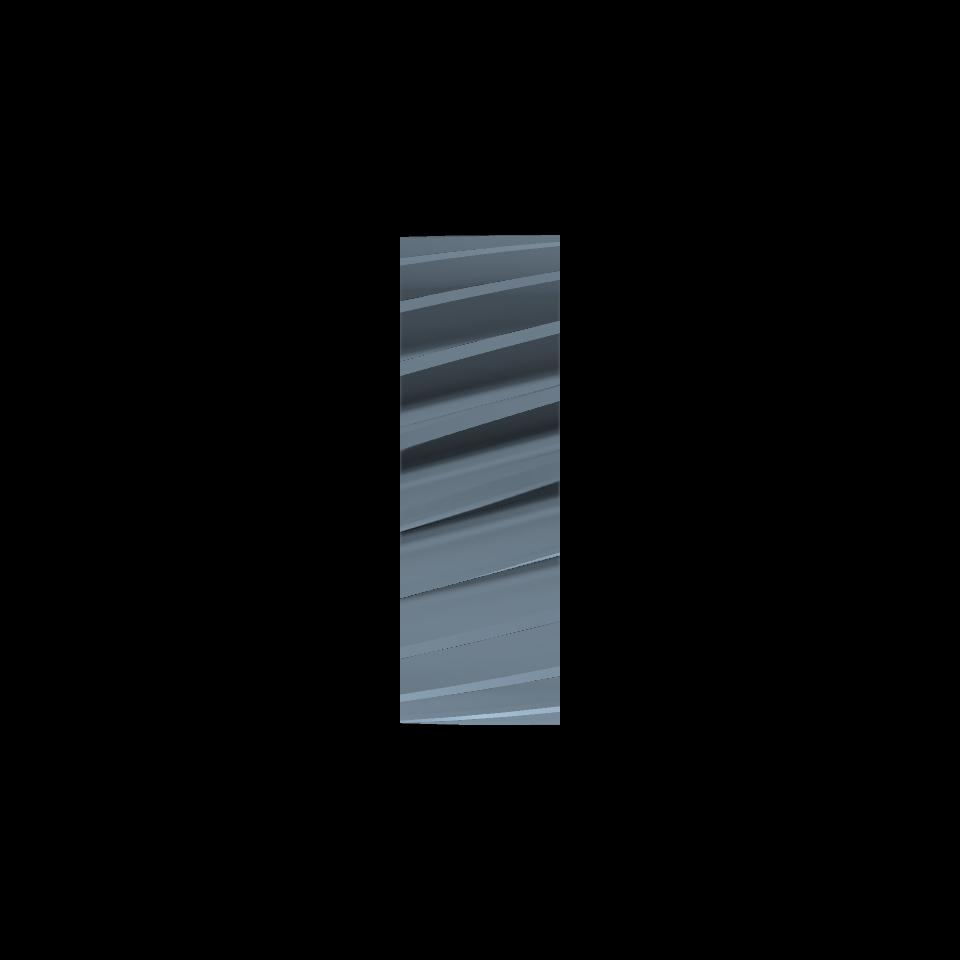Helical: (400, 236, 559, 723)
